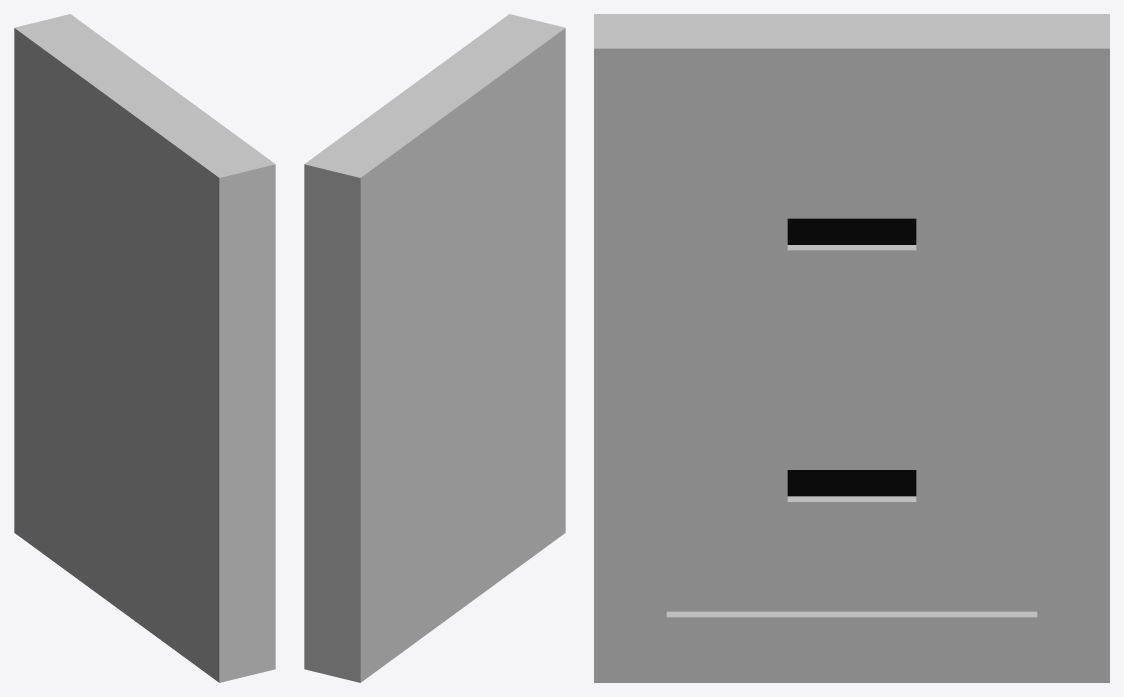
Rendered from Socket.fbx.
The picture shows the model from 3 angles, left to right: view 1: azimuth 30°, elevation 25°; view 2: azimuth 150°, elevation 25°; view 3: azimuth 270°, elevation 25°; orthographic projection. The views are drawn at different scales.
Visible parts, largest first — view 1: Cube; view 2: Cube; view 3: Cube.
Boxes of the visible parts, x1,y1,x2,y2 form: Cube: [14, 14, 275, 682]; Cube: [304, 14, 565, 682]; Cube: [594, 14, 1109, 682].
Size of the model in its own units: 1.53 by 13.13 by 9.68.
